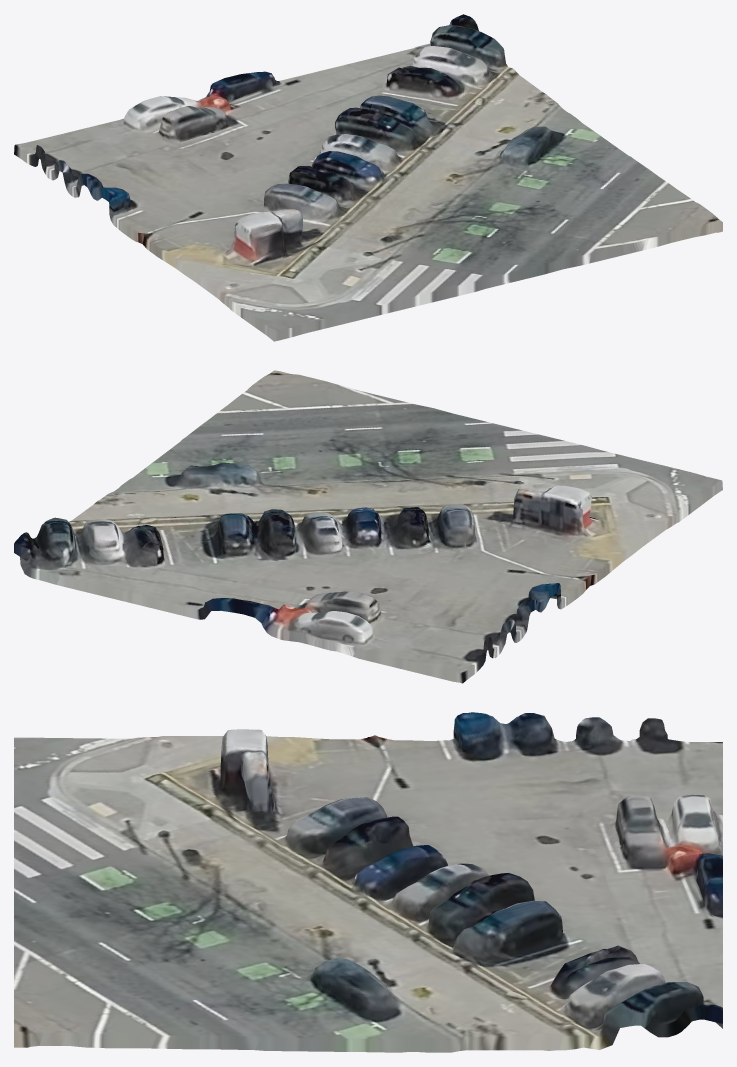
The model's file is z20-167773-405200-h0-yup-uvflip-v3-world.glb.
The picture shows the model from 3 angles, top to bottom: view 1: azimuth 30°, elevation 25°; view 2: azimuth 150°, elevation 25°; view 3: azimuth 270°, elevation 25°; orthographic projection. The views are drawn at different scales.
Size of the model in its own units: 30.2 by 3.08 by 30.32.
1 material, 1 textured.
